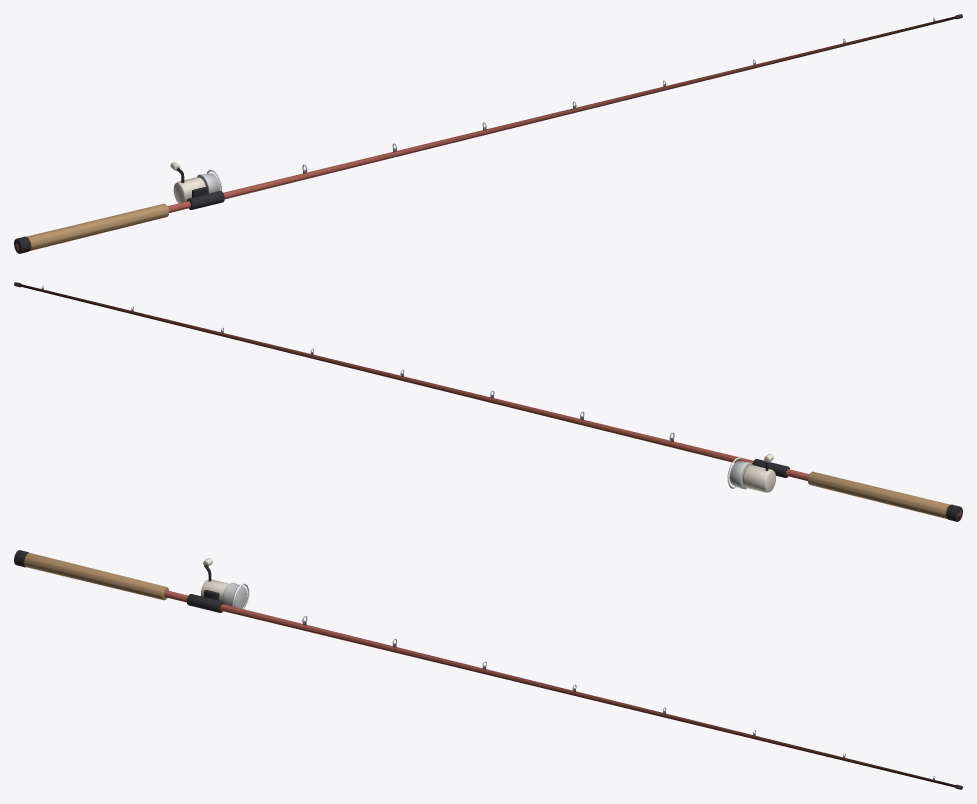
File: rod_carbon.glb
3 renders of one model, top to bottom at view 1: azimuth 30°, elevation 25°; view 2: azimuth 150°, elevation 25°; view 3: azimuth 330°, elevation 25°, orthographic.
Visible parts, largest first — view 1: PART; view 2: PART; view 3: PART.
Part boxes in pixels (left/top/right/bottom): PART: left=14, top=14, right=962, bottom=253; PART: left=14, top=282, right=962, bottom=521; PART: left=14, top=550, right=962, bottom=789.
Size of the model in its own units: 1.91 by 0.0839 by 0.0889.
